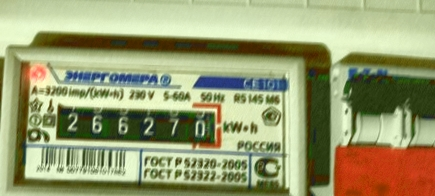0: (192, 117, 207, 137)
2: (65, 110, 79, 131), (142, 115, 156, 135)
6: (90, 112, 103, 133), (116, 114, 130, 133)
7: (168, 116, 179, 135)
screen: (44, 92, 229, 154)
